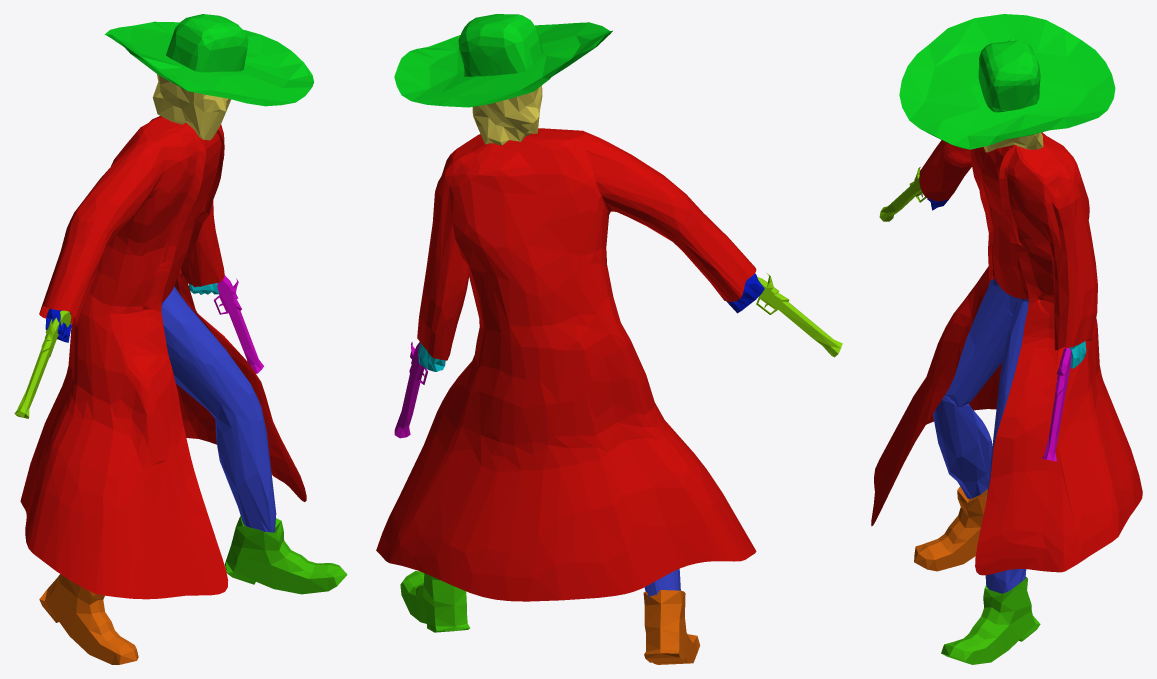
The model's file is Gunslinger.dae.
3 renders of one model, left to right at view 1: azimuth 30°, elevation 25°; view 2: azimuth 150°, elevation 25°; view 3: azimuth 270°, elevation 25°, orthographic. The views are drawn at different scales.
Parts seen in each view (by area): view 1: Gunslinger; view 2: Gunslinger; view 3: Gunslinger.
Part boxes in pixels (x1,y1,x2,y2): Gunslinger: [14, 14, 347, 664]; Gunslinger: [376, 14, 842, 664]; Gunslinger: [871, 14, 1142, 664].
Size of the model in its own units: 13.58 by 8.81 by 20.72.
